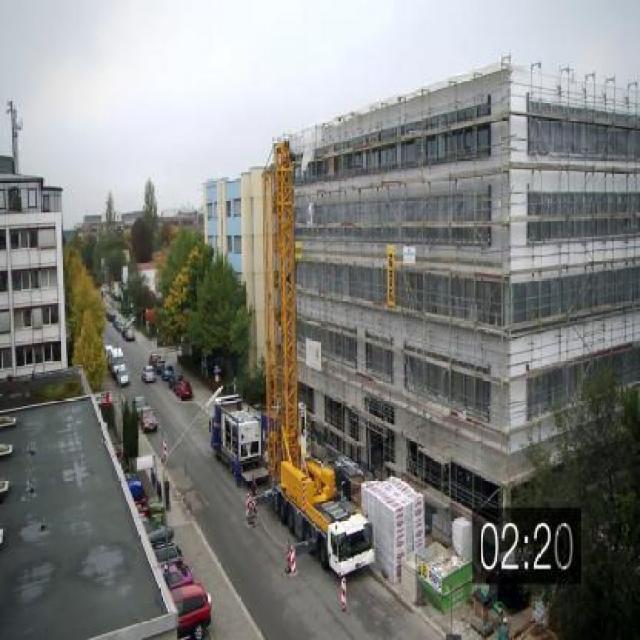Mobile Crane: (246, 134, 374, 589)
